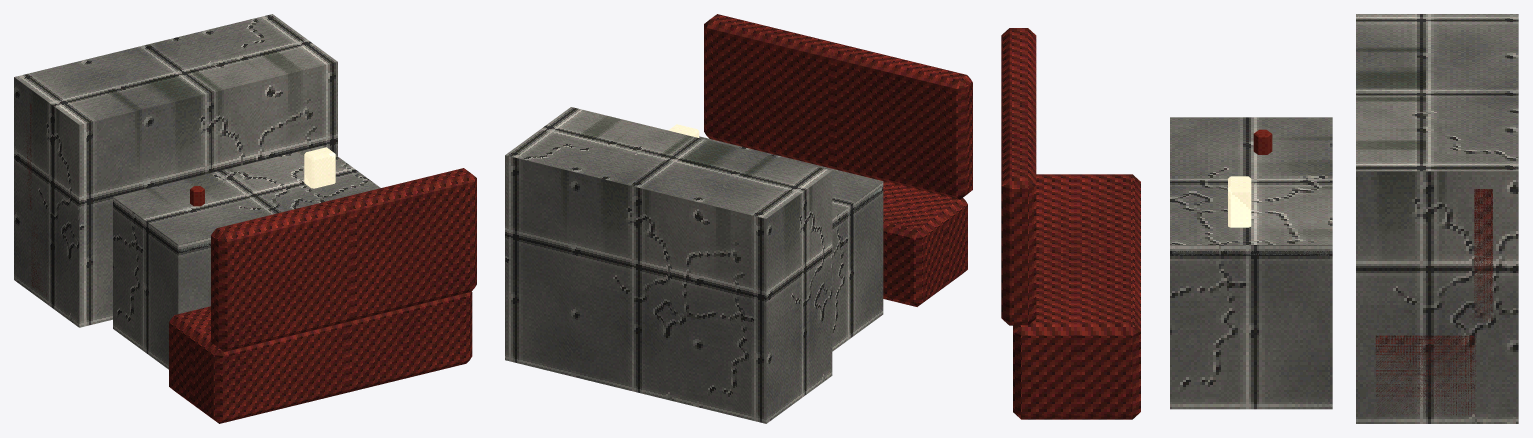
The model's file is int_booth.glb.
The picture shows the model from 3 angles, left to right: view 1: azimuth 30°, elevation 25°; view 2: azimuth 150°, elevation 25°; view 3: azimuth 270°, elevation 25°; orthographic projection. The views are drawn at different scales.
Visible parts, largest first — view 1: int_booth_mesh, int_booth_col-colonly.001, int_booth_col-colonly.002; view 2: int_booth_col-colonly.001, int_booth_mesh, int_booth_col-colonly.002; view 3: int_booth_col-colonly.001, int_booth_mesh, int_booth_col-colonly.002.
Part boxes in pixels (left/top/right/bottom): int_booth_mesh: left=25, top=103, right=476, bottom=423; int_booth_col-colonly.001: left=14, top=14, right=337, bottom=327; int_booth_col-colonly.002: left=113, top=145, right=380, bottom=369; int_booth_col-colonly.001: left=505, top=107, right=832, bottom=423; int_booth_mesh: left=668, top=14, right=972, bottom=306; int_booth_col-colonly.002: left=699, top=136, right=883, bottom=351; int_booth_col-colonly.001: left=1356, top=14, right=1518, bottom=423; int_booth_mesh: left=1001, top=28, right=1492, bottom=419; int_booth_col-colonly.002: left=1170, top=117, right=1332, bottom=409.
Size of what is drawn, in the model's own units: 1.6 by 1.2 by 2.22.
Materials: 6 (6 with a texture image).
